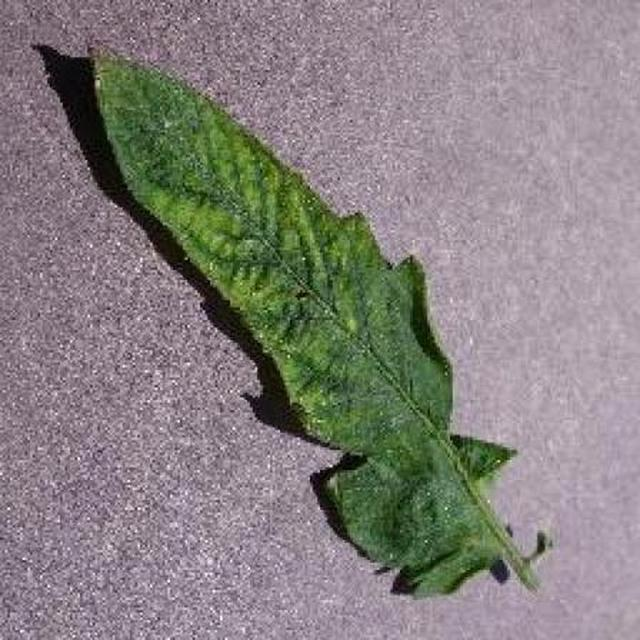Mosaic Virus Leaf: (119, 131, 640, 640)
